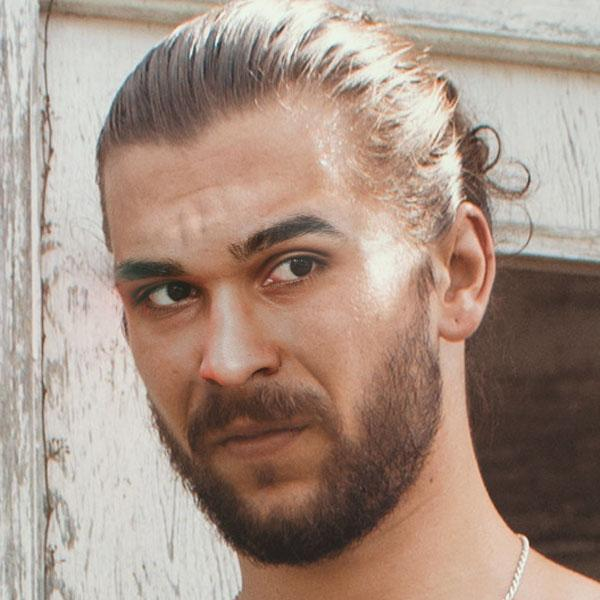Eyes: (251, 238, 341, 301), (127, 264, 214, 324)
